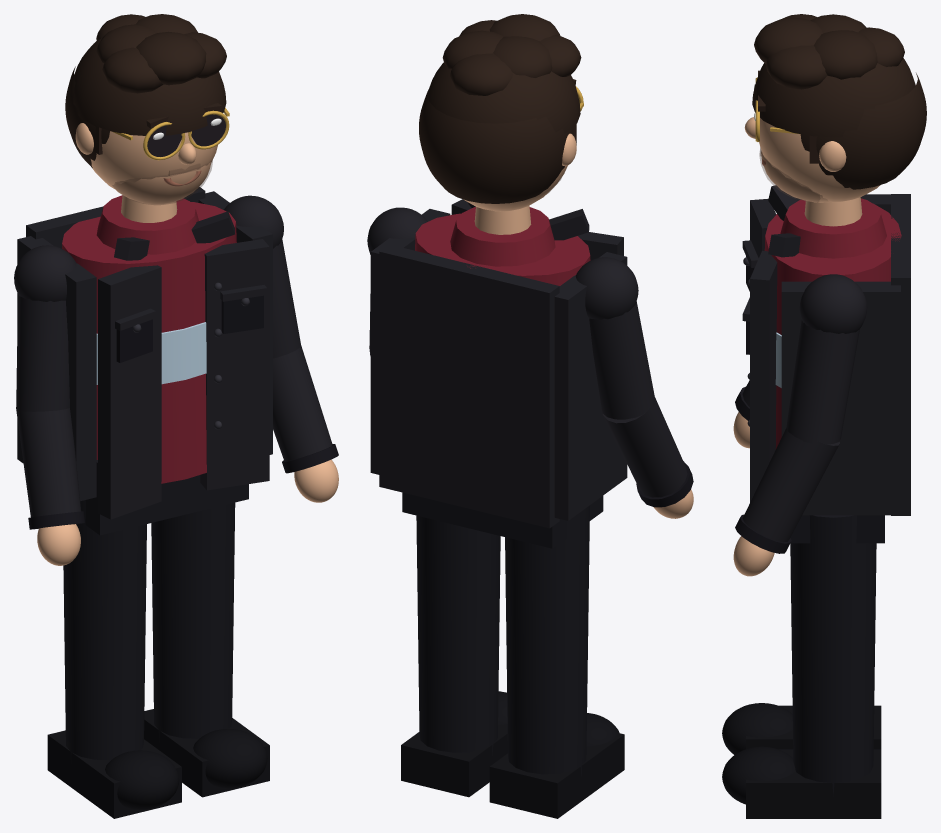
The model's file is baba.glb.
3 renders of one model, left to right at view 1: azimuth 30°, elevation 25°; view 2: azimuth 150°, elevation 25°; view 3: azimuth 270°, elevation 25°, orthographic.
Visible parts, largest first — view 1: Oguzhan; view 2: Oguzhan; view 3: Oguzhan.
Boxes of the visible parts, <box> form: Oguzhan: <box>14,14,338,818</box>; Oguzhan: <box>367,14,693,818</box>; Oguzhan: <box>722,14,926,818</box>.
Bounding box in the file's own units: 0.8941 × 2.1 × 0.515.
